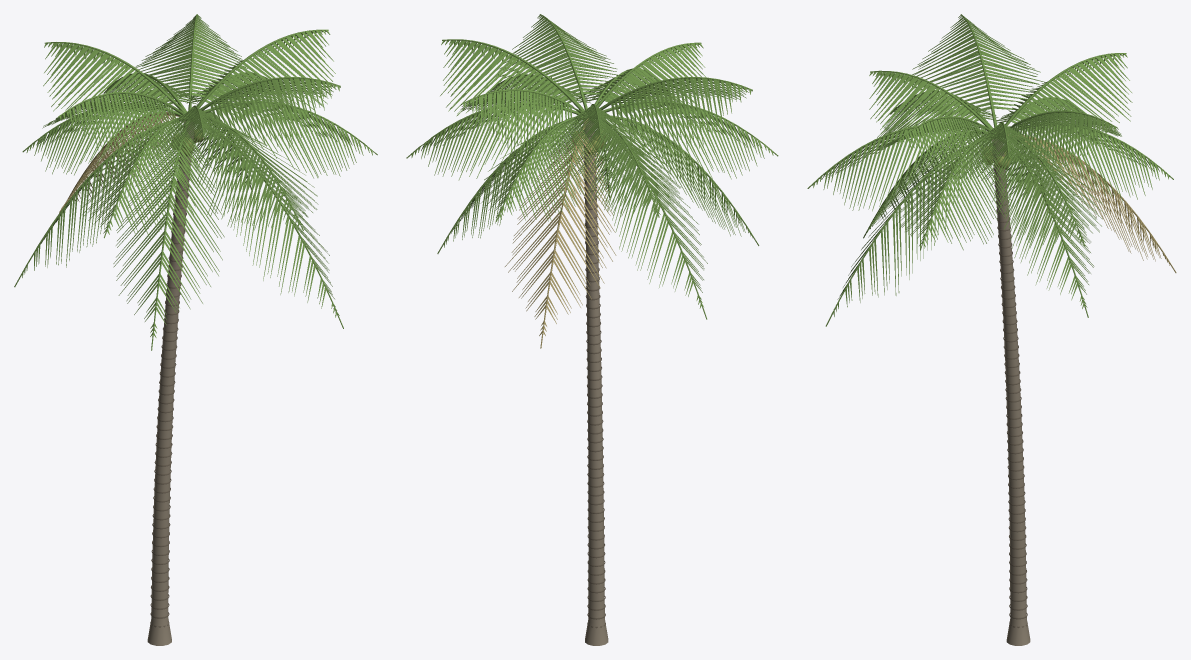
The model's file is city_palm_2.glb.
3 views of the same model, side by side, from view 1: azimuth 30°, elevation 25°; view 2: azimuth 150°, elevation 25°; view 3: azimuth 270°, elevation 25° (orthographic). The views are drawn at different scales.
Visible parts, largest first — view 1: Frond0; view 2: Frond0; view 3: Frond0.
Boxes of the visible parts, box(x1,y1,x2,y2) form: Frond0: box(14, 14, 377, 645); Frond0: box(406, 14, 778, 645); Frond0: box(807, 14, 1176, 645).
Bounding box in the file's own units: 7.71 × 14.38 × 8.43.
